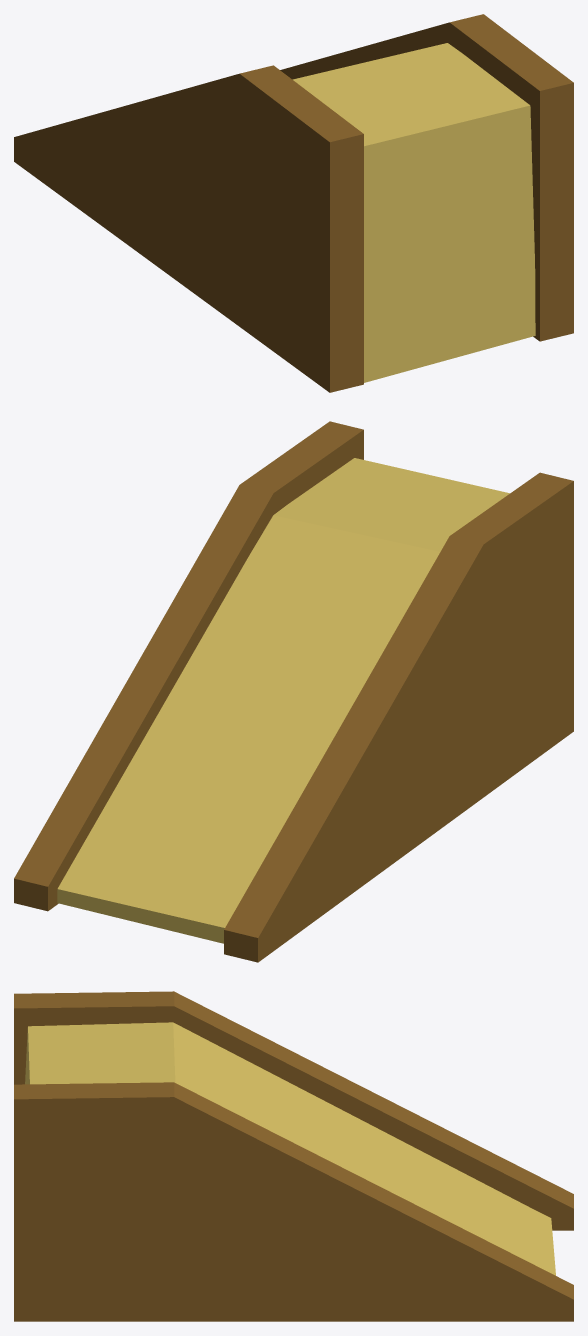
Rendered from Desert_Structure_Ramp.fbx.
The picture shows the model from 3 angles, top to bottom: view 1: azimuth 30°, elevation 25°; view 2: azimuth 150°, elevation 25°; view 3: azimuth 270°, elevation 25°; orthographic projection. The views are drawn at different scales.
Visible parts, largest first — view 1: Desert Structure Ramp; view 2: Desert Structure Ramp; view 3: Desert Structure Ramp.
Part boxes in pixels (bbox=[...]): Desert Structure Ramp: bbox=[14, 14, 573, 392]; Desert Structure Ramp: bbox=[14, 421, 573, 962]; Desert Structure Ramp: bbox=[14, 991, 573, 1321].
Bounding box in the file's own units: 444 × 443 × 994.
